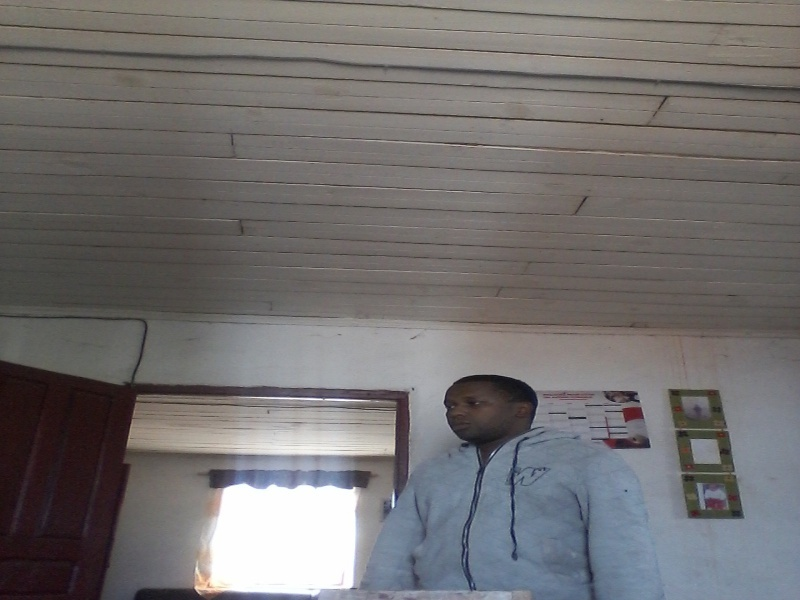TsisyArotava: (431, 370, 547, 460)
